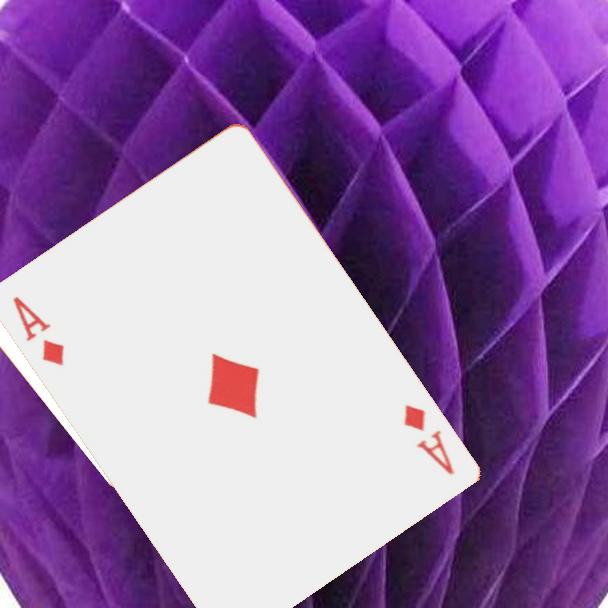d01: (8, 292, 67, 369), (399, 400, 457, 478)
